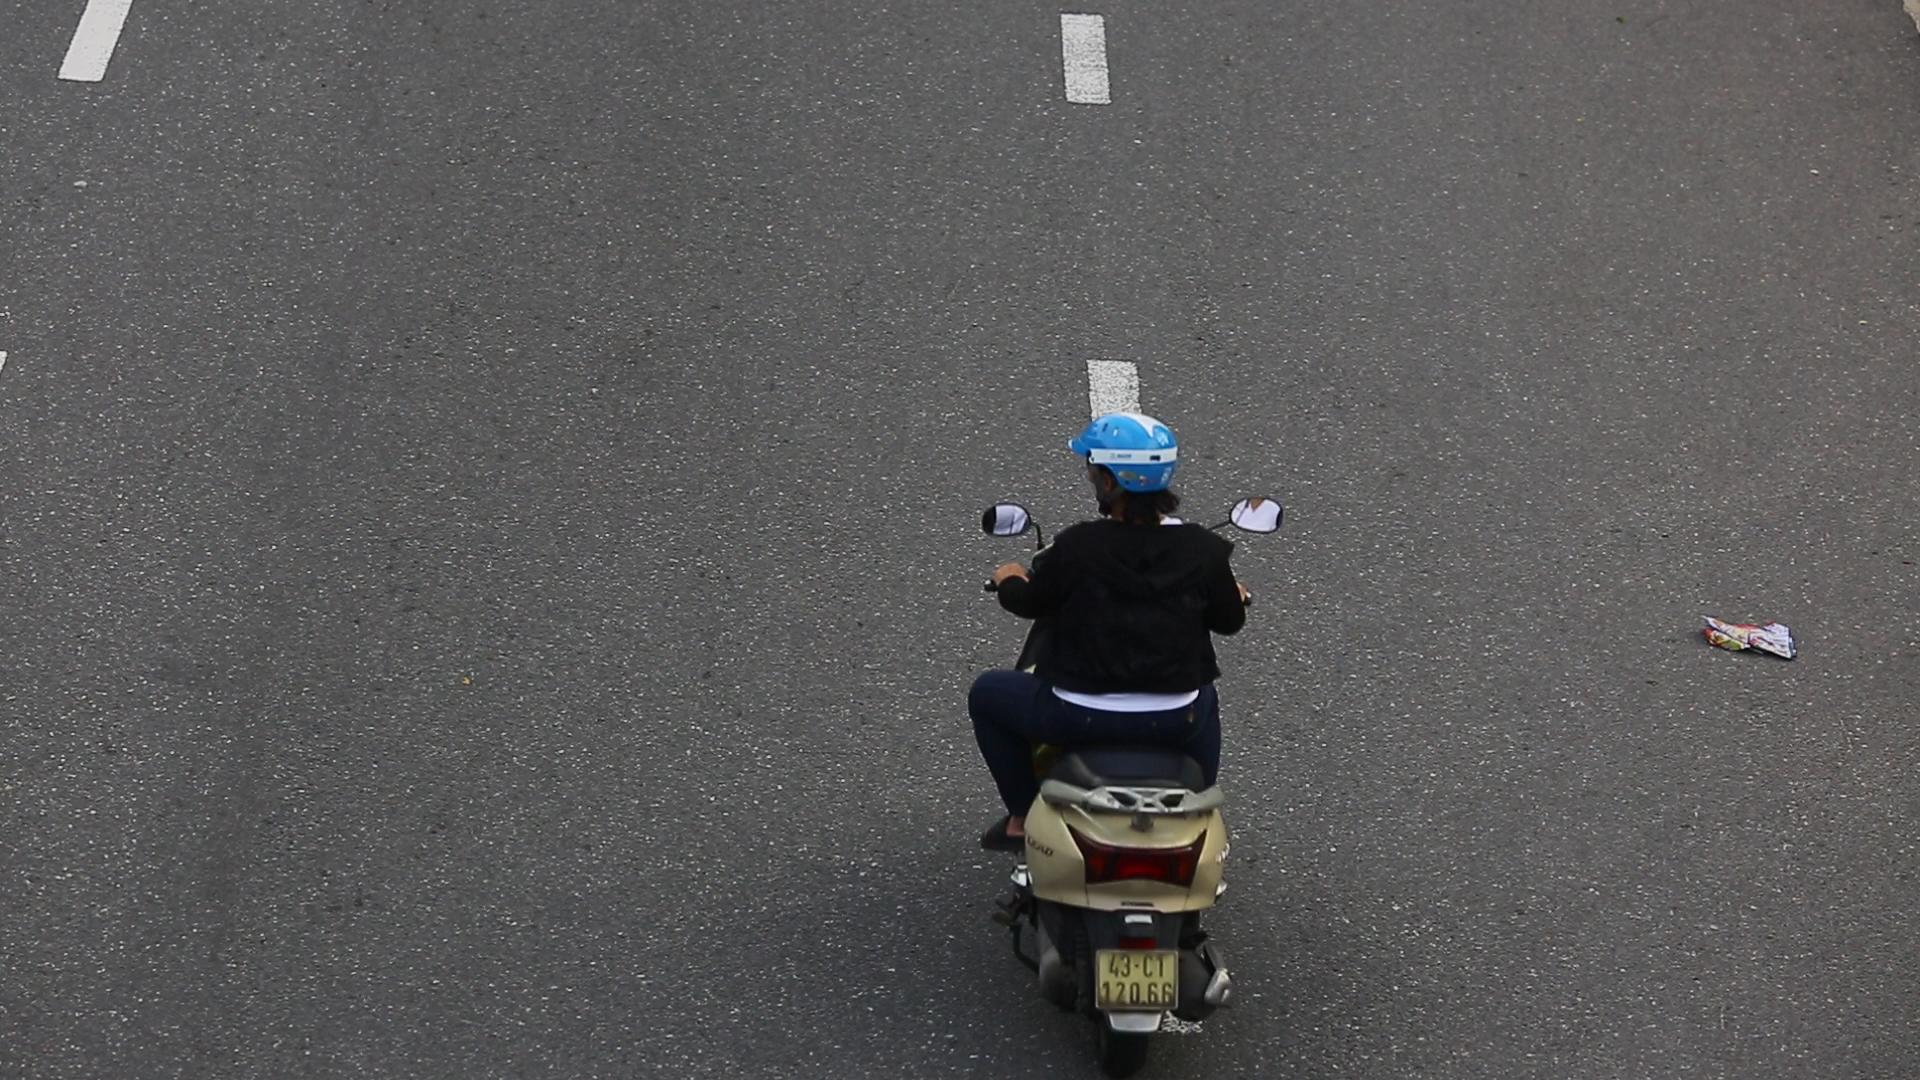motobike: (963, 397, 1286, 1080)
